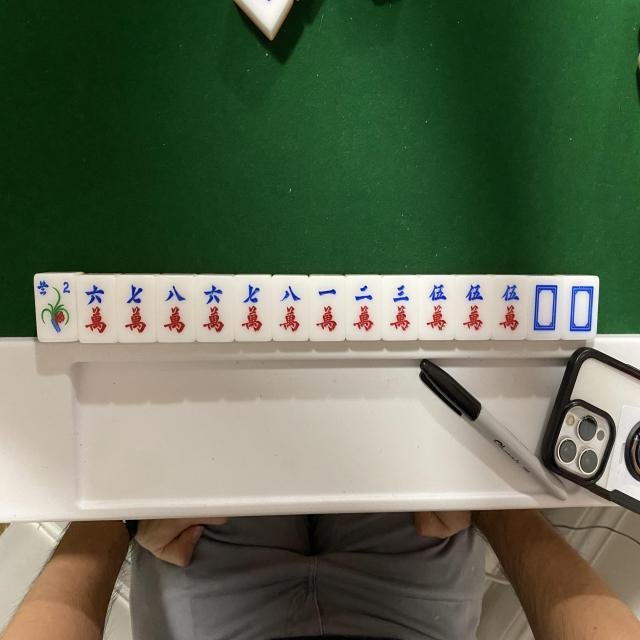bf2: (33, 274, 74, 340)
hdw: (566, 277, 598, 338), (529, 278, 561, 338)
sc1: (312, 278, 348, 338)
sc2: (351, 276, 379, 340)
sc3: (381, 276, 415, 338)
sc5: (420, 277, 453, 336), (460, 280, 492, 340), (495, 278, 525, 336)
sc6: (77, 277, 114, 341), (196, 278, 232, 341)
sc7: (118, 280, 156, 344), (234, 280, 268, 342)
sc8: (158, 279, 194, 343), (273, 280, 308, 340)
